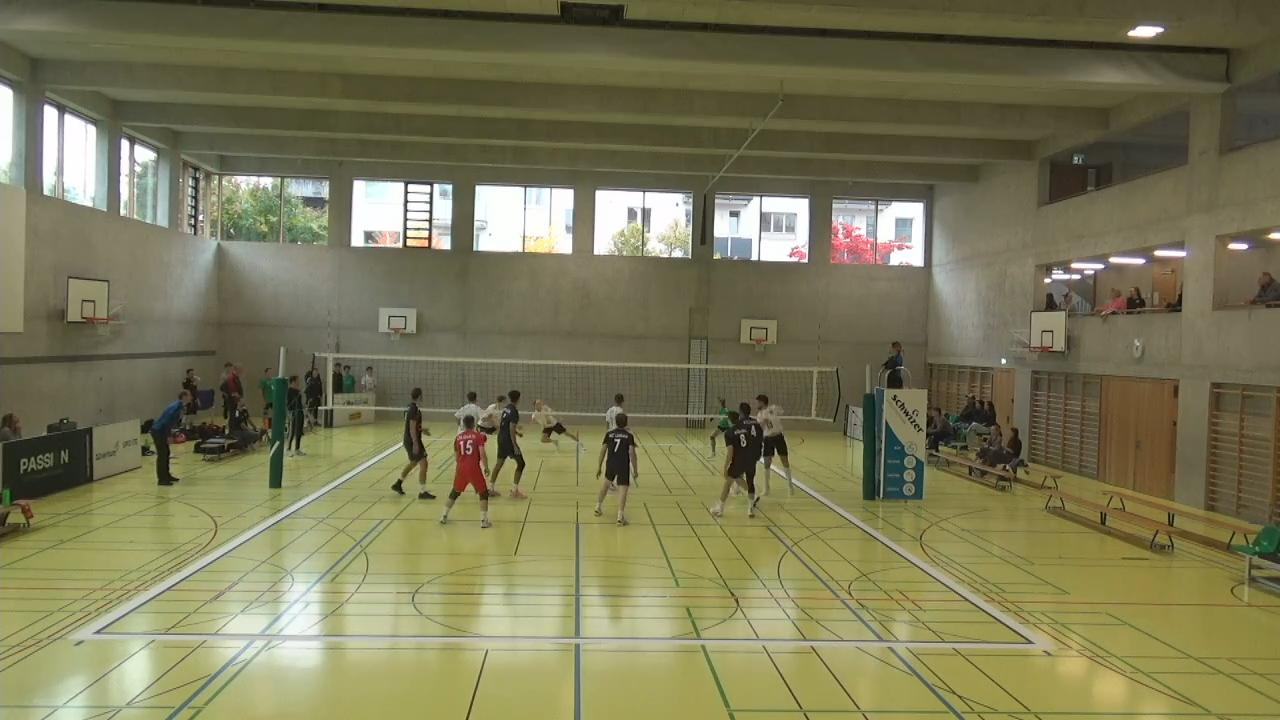Dig: (525, 396, 589, 455)
Player: (440, 410, 495, 527), (712, 411, 760, 519), (487, 391, 531, 497), (595, 412, 635, 526), (393, 388, 432, 497), (758, 396, 792, 493), (732, 395, 764, 467), (706, 399, 734, 466), (456, 389, 488, 434), (607, 390, 627, 432)
